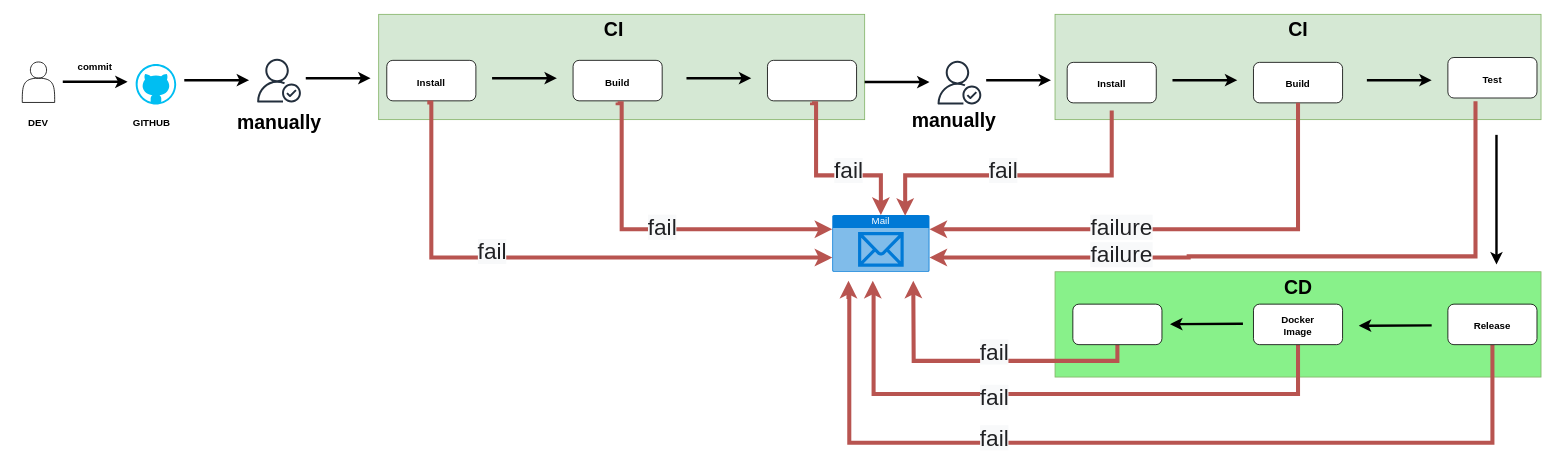
This 1555x466 diagram has some shape labels left out. The box of each missing label's shape, as (x1, y1, x2, y2) in pixels:
Check_files: (767, 60, 857, 101)
Deploy: (1072, 303, 1162, 345)
